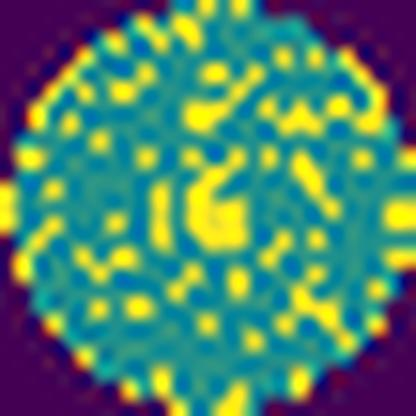Center: (177, 145, 252, 258)
